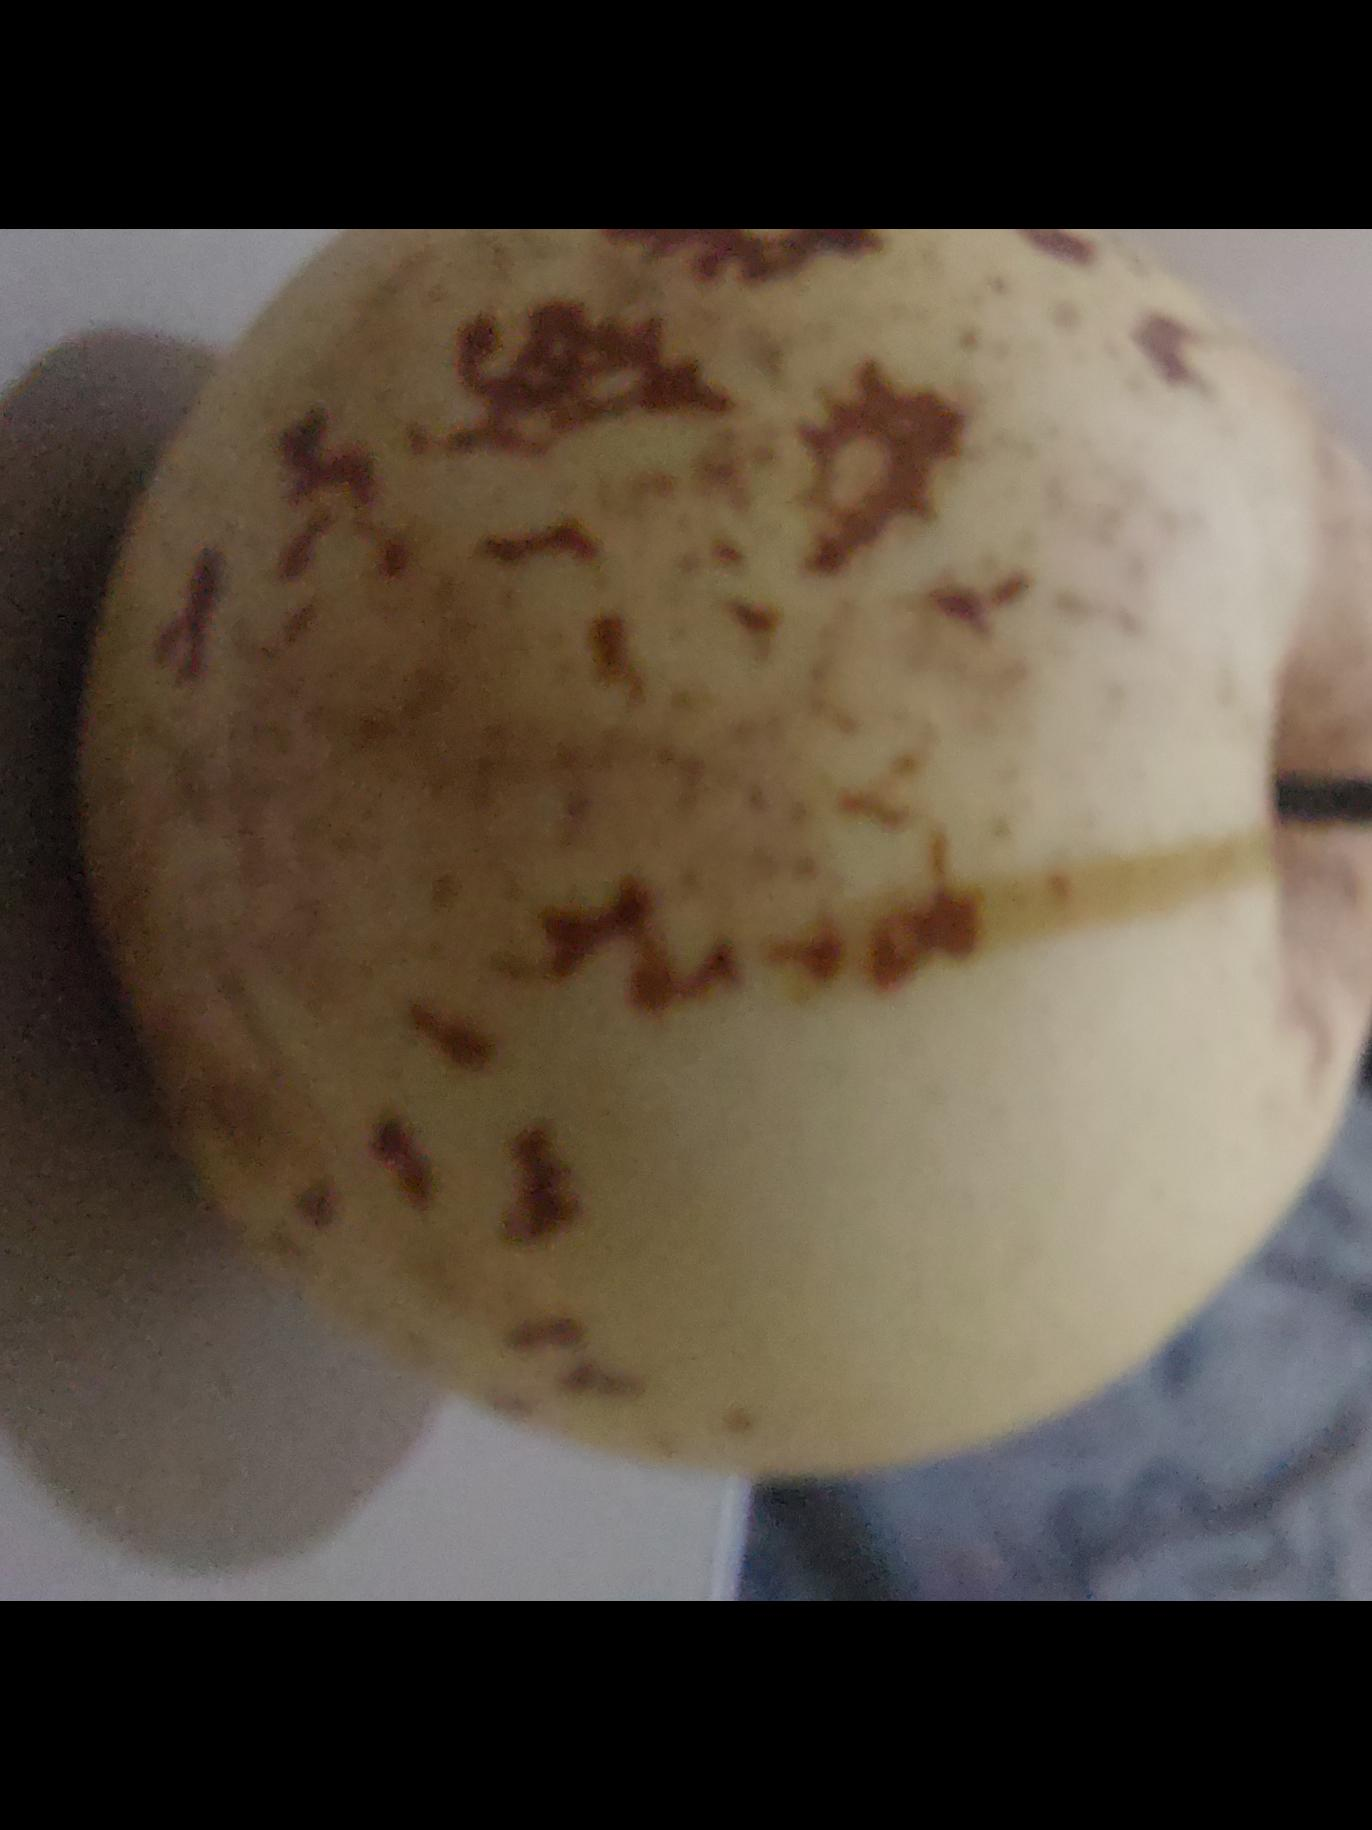Bad Pear: (36, 229, 1372, 1451)
